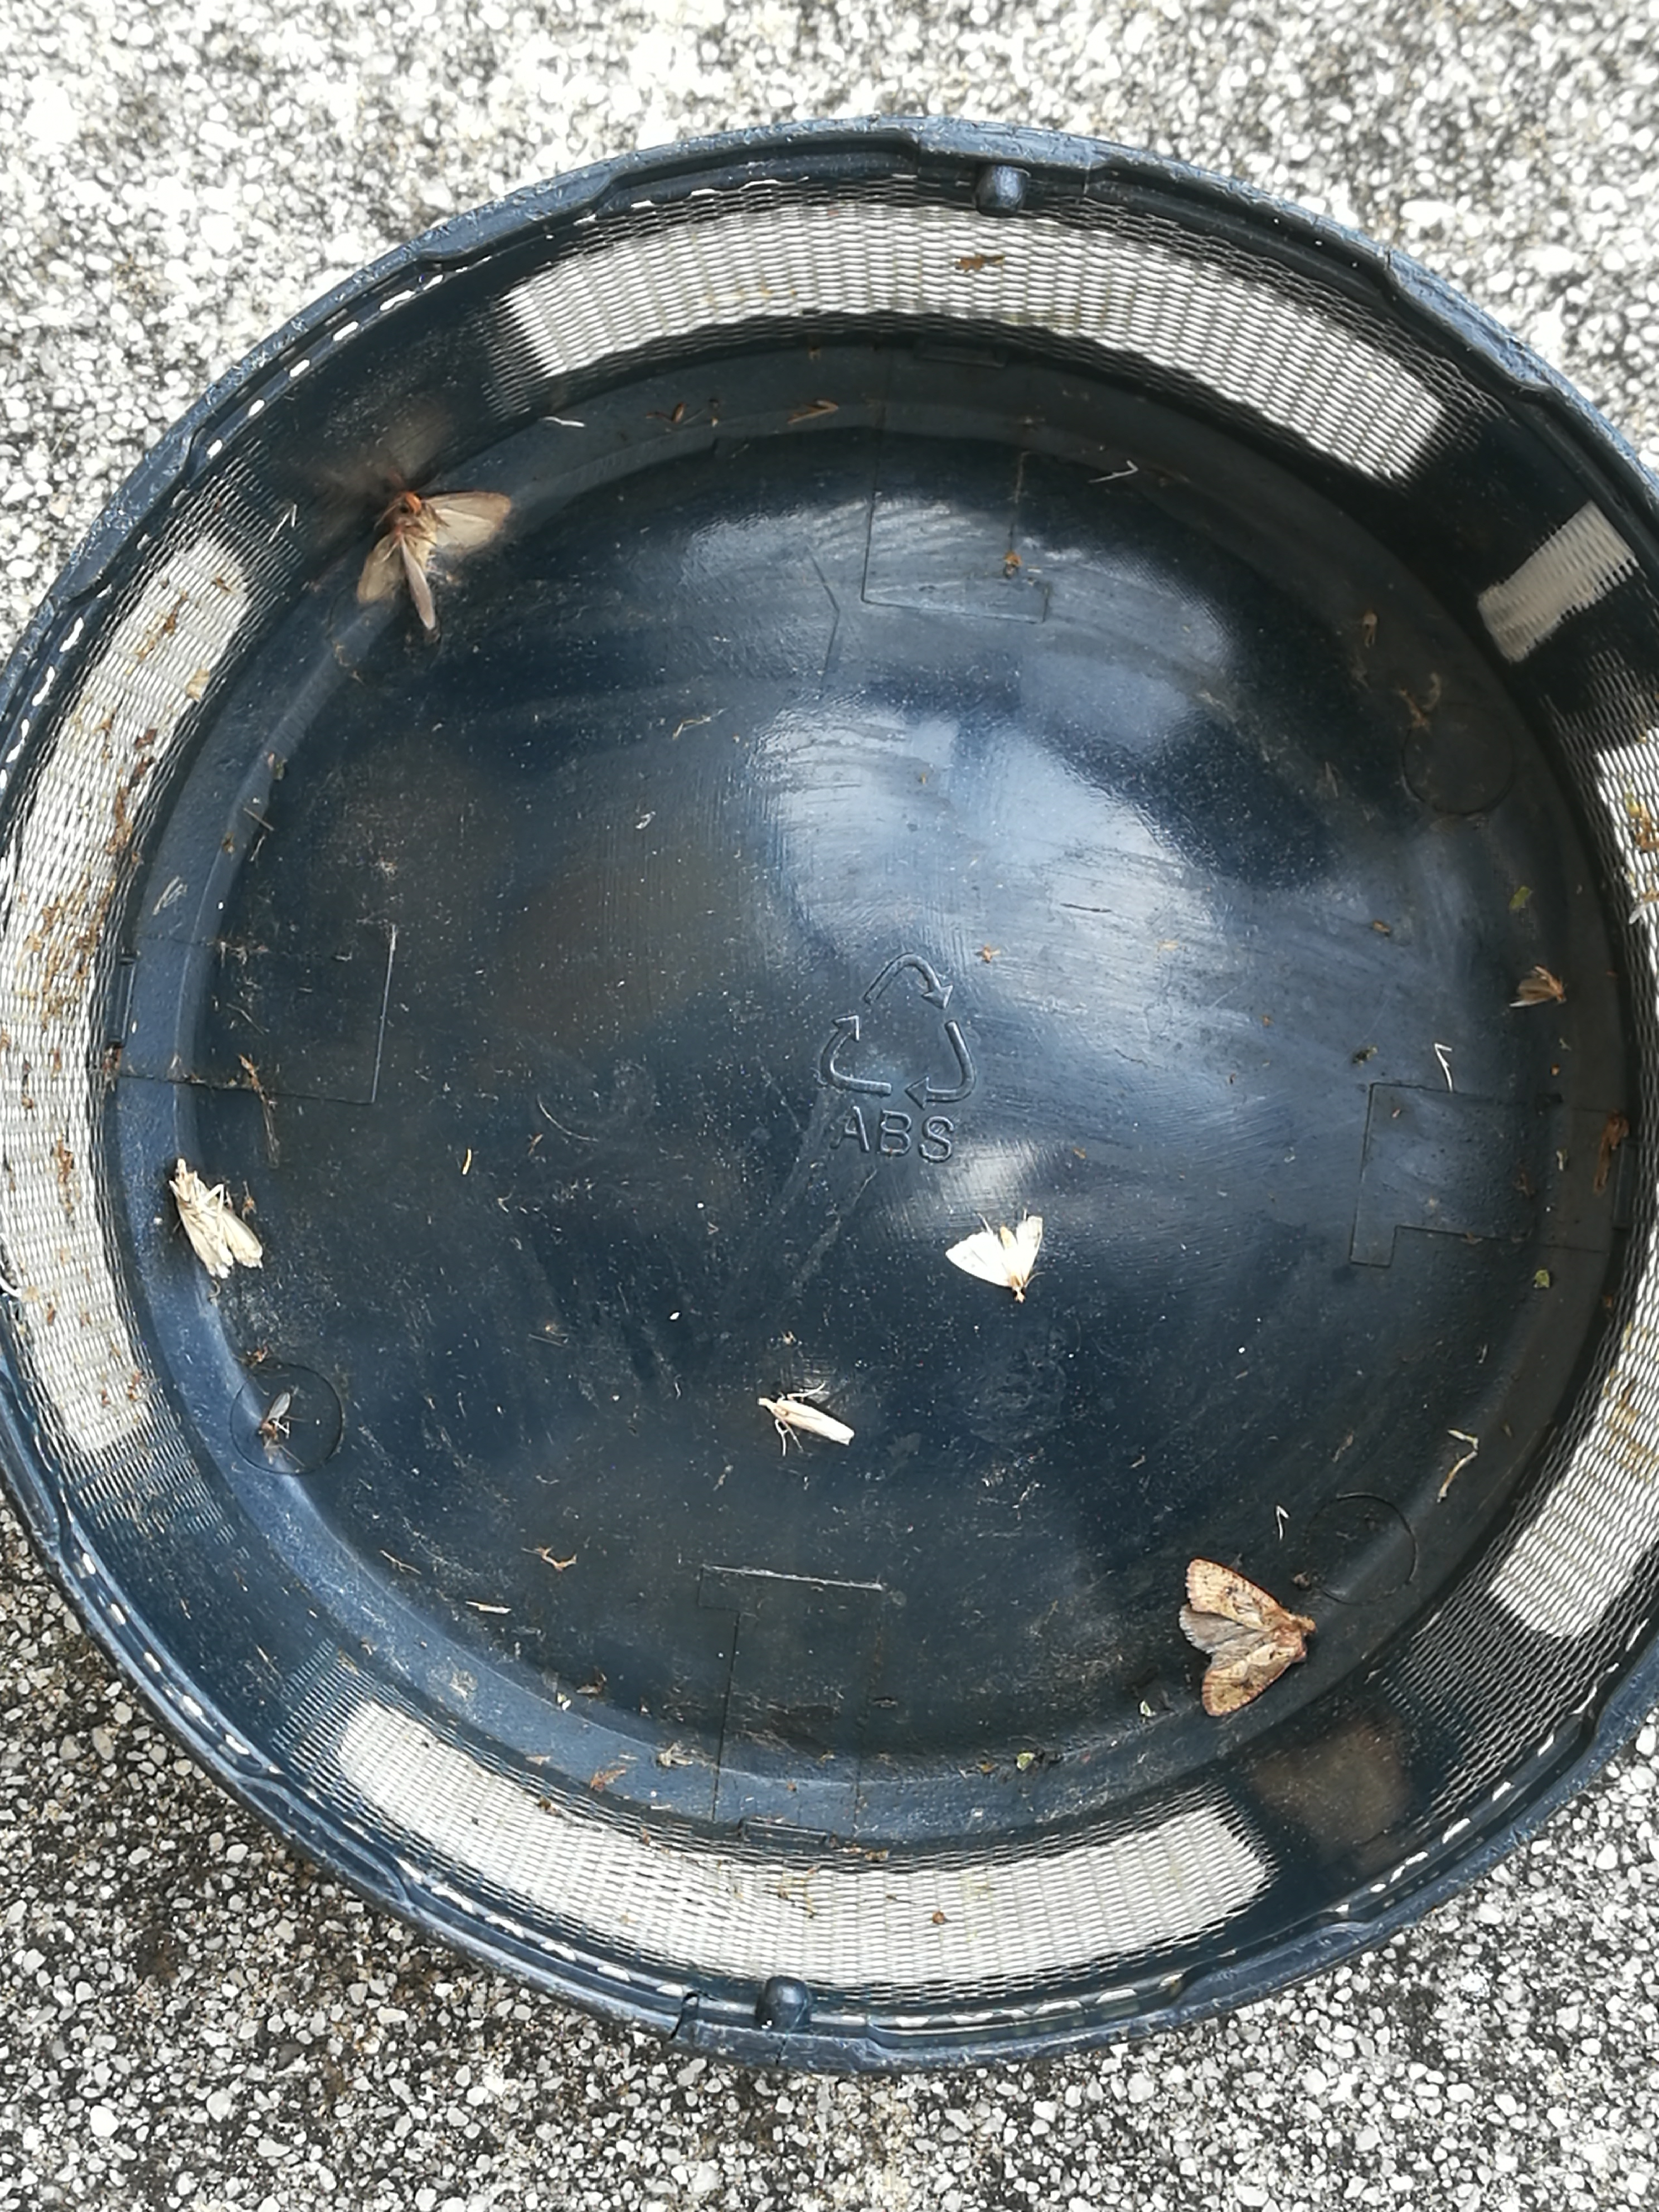mosquito: (760, 1399, 856, 1442), (1596, 1116, 1629, 1195)
moth: (1180, 1559, 1314, 1716), (357, 495, 511, 629), (169, 1160, 263, 1278), (945, 1216, 1042, 1294), (1511, 967, 1565, 1005)
